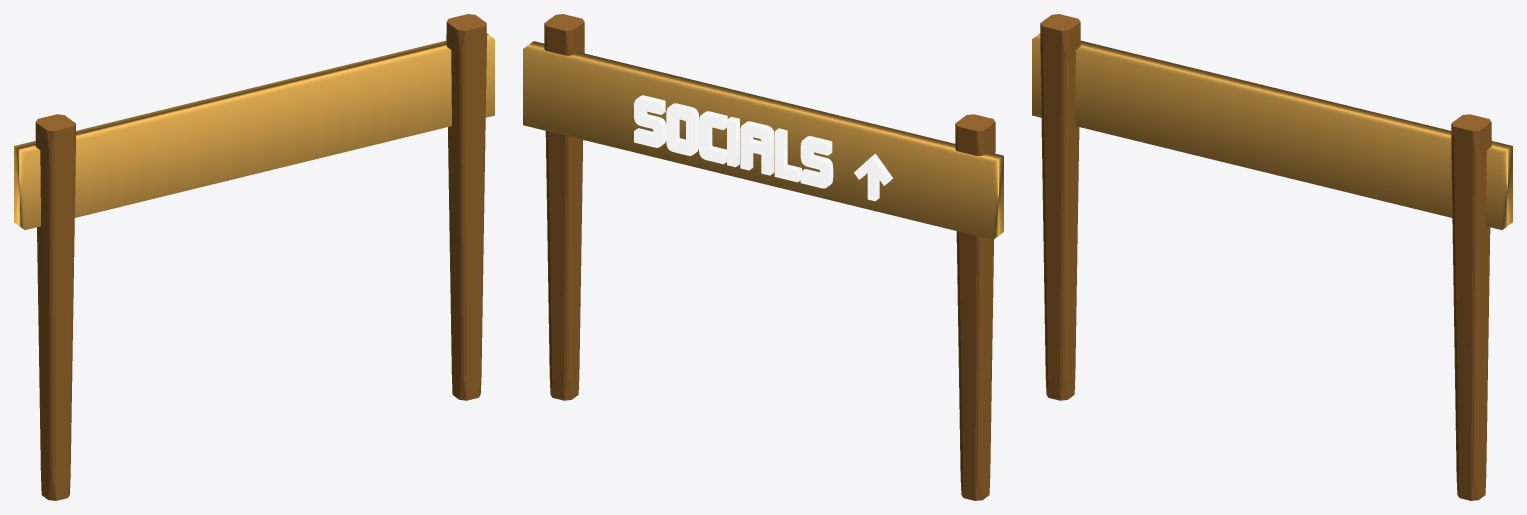
Rendered from socialsBoard1.glb.
3 views of the same model, side by side, from view 1: azimuth 30°, elevation 25°; view 2: azimuth 150°, elevation 25°; view 3: azimuth 330°, elevation 25° (orthographic).
Parts seen in each view (by area): view 1: Cube, Cube.005, Cube.004; view 2: Cube, Cube.005, Cube.004, Text.002; view 3: Cube, Cube.004, Cube.005.
Part boxes in pixels (bbox=[...]): Cube: bbox=[14, 33, 494, 229]; Cube.005: bbox=[35, 114, 75, 500]; Cube.004: bbox=[446, 14, 486, 400]; Cube: bbox=[523, 41, 1003, 239]; Cube.005: bbox=[955, 114, 995, 500]; Cube.004: bbox=[544, 14, 584, 400]; Text.002: bbox=[634, 95, 892, 201]; Cube: bbox=[1032, 33, 1512, 229]; Cube.004: bbox=[1451, 114, 1491, 500]; Cube.005: bbox=[1040, 14, 1080, 400].
Size of the model in its own units: 5.18 by 3.92 by 0.4692.
